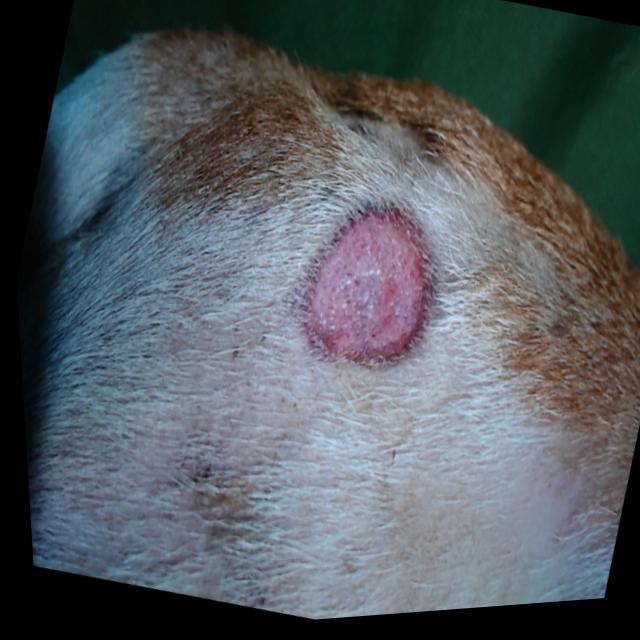ringworm: (267, 147, 454, 413)
